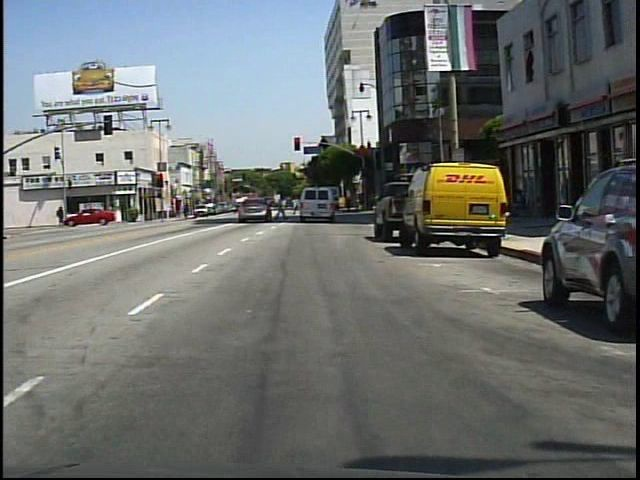person: (508, 182, 533, 223), (273, 193, 291, 225), (289, 196, 299, 218), (56, 205, 66, 226)
